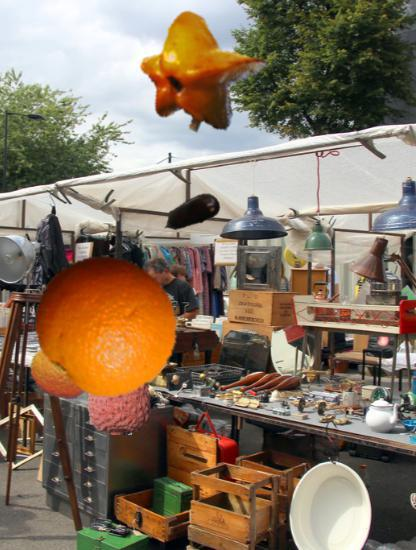Carambula: (140, 15, 259, 134)
Eggplant: (160, 182, 223, 245)
Lychee: (80, 356, 160, 436)
Mandarine: (31, 336, 97, 402)
Orange: (36, 253, 179, 396)
